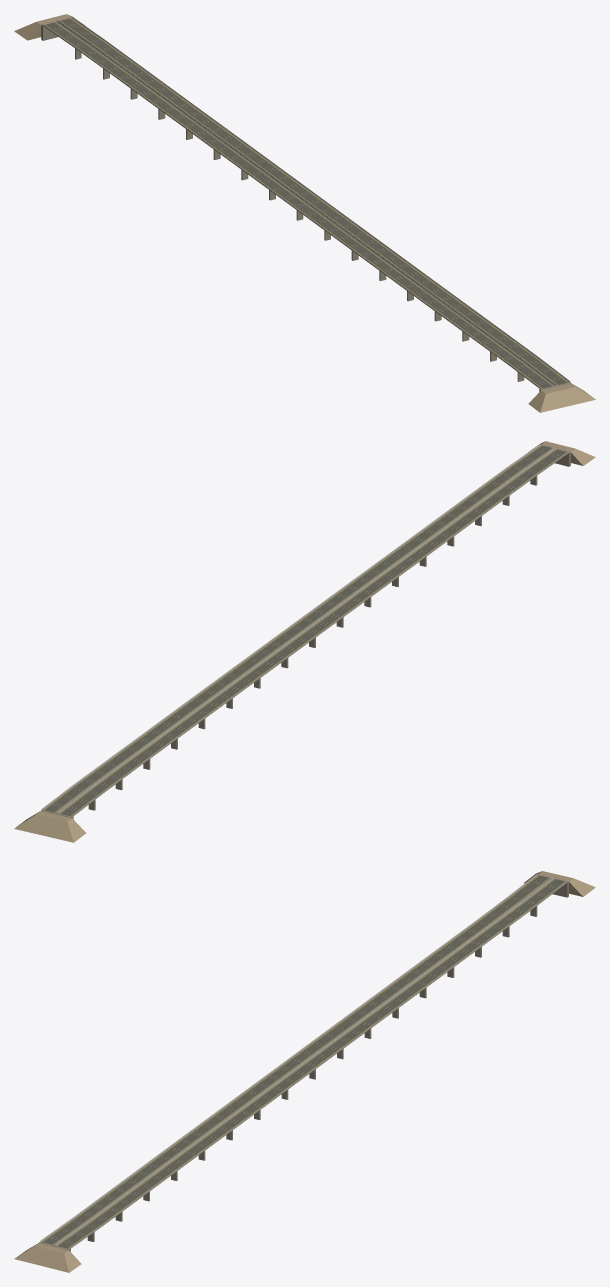
The model's file is m2_jhelum_bridge.glb.
3 views of the same model, one above another, from view 1: azimuth 30°, elevation 25°; view 2: azimuth 150°, elevation 25°; view 3: azimuth 330°, elevation 25° (orthographic).
Parts seen in each view (by area): view 1: m_deck_asphalt, m_parapet_concrete, m_deck_margin, m_abutment_fill, m_pier_concrete, m_girder_concrete, m_line_yellow; view 2: m_deck_asphalt, m_parapet_concrete, m_deck_margin, m_abutment_fill, m_pier_concrete, m_girder_concrete, m_line_yellow; view 3: m_deck_asphalt, m_parapet_concrete, m_deck_margin, m_abutment_fill, m_pier_concrete, m_line_yellow, m_girder_concrete.
Boxes of the visible parts, x1=… form: m_deck_asphalt: x1=45, y1=18, x2=567, y2=388; m_parapet_concrete: x1=42, y1=17, x2=570, y2=388; m_deck_margin: x1=44, y1=18, x2=569, y2=388; m_abutment_fill: x1=14, y1=14, x2=595, y2=412; m_pier_concrete: x1=41, y1=17, x2=570, y2=391; m_girder_concrete: x1=44, y1=23, x2=566, y2=388; m_line_yellow: x1=46, y1=19, x2=566, y2=388; m_deck_asphalt: x1=45, y1=445, x2=566, y2=816; m_parapet_concrete: x1=42, y1=444, x2=569, y2=816; m_deck_margin: x1=43, y1=445, x2=567, y2=816; m_abutment_fill: x1=14, y1=441, x2=595, y2=842; m_pier_concrete: x1=41, y1=444, x2=570, y2=818; m_girder_concrete: x1=50, y1=454, x2=566, y2=815; m_line_yellow: x1=45, y1=446, x2=566, y2=815; m_deck_asphalt: x1=43, y1=875, x2=565, y2=1248; m_parapet_concrete: x1=40, y1=874, x2=567, y2=1248; m_deck_margin: x1=41, y1=875, x2=565, y2=1248; m_abutment_fill: x1=14, y1=871, x2=595, y2=1272; m_pier_concrete: x1=39, y1=874, x2=568, y2=1251; m_line_yellow: x1=45, y1=876, x2=563, y2=1246; m_girder_concrete: x1=71, y1=883, x2=566, y2=1248.
Bounding box in the file's own units: 56.33 × 14.59 × 862.
